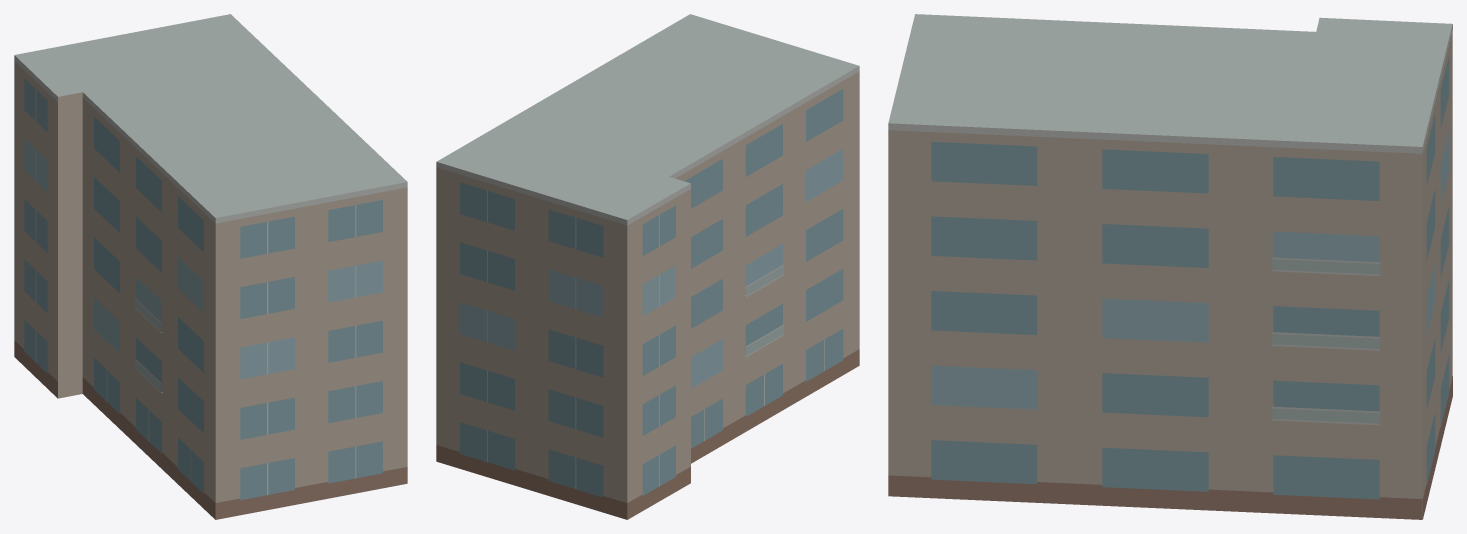
File: survey-upis-33026091.glb
The picture shows the model from 3 angles, left to right: view 1: azimuth 30°, elevation 25°; view 2: azimuth 150°, elevation 25°; view 3: azimuth 270°, elevation 25°; orthographic projection. The views are drawn at different scales.
Parts seen in each view (by area): view 1: survey-upis-33026091.tmp; view 2: survey-upis-33026091.tmp; view 3: survey-upis-33026091.tmp.
Boxes of the visible parts, <box> form: survey-upis-33026091.tmp: <box>14,14,407,519</box>; survey-upis-33026091.tmp: <box>436,14,859,519</box>; survey-upis-33026091.tmp: <box>888,14,1452,519</box>.
Bounding box in the file's own units: 10.26 × 13.4 × 18.39.
